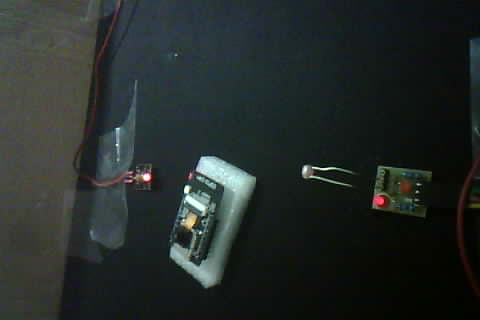esp32: (165, 154, 244, 276)
